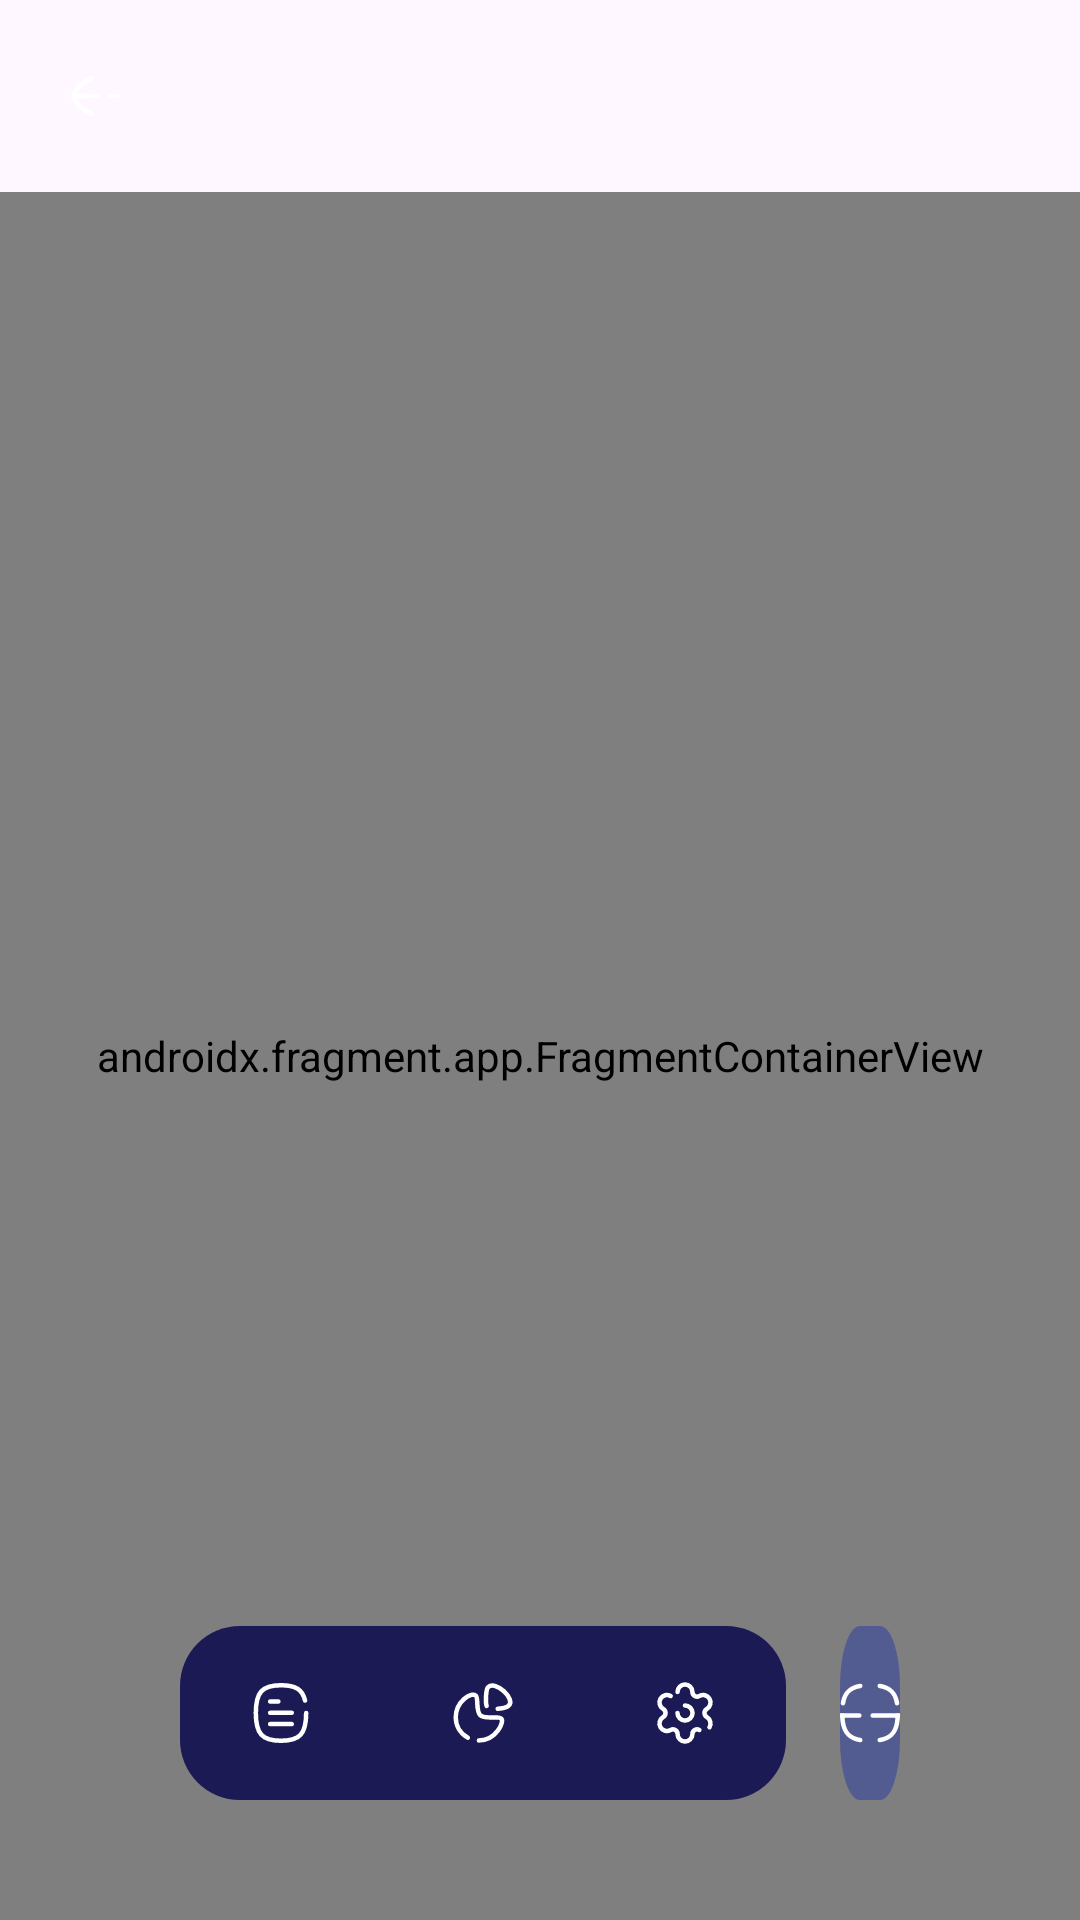

Named icons in this screenshot (1080w x 1920h) and their bounding boxes, (left=x1, top=y1, right=x2, bottom=y2):
Grafik: (left=453, top=1683, right=513, bottom=1743)
Pengaturan: (left=584, top=1626, right=786, bottom=1800)
Pindai: (left=840, top=1626, right=900, bottom=1800)
Transaksi: (left=180, top=1626, right=382, bottom=1800)
